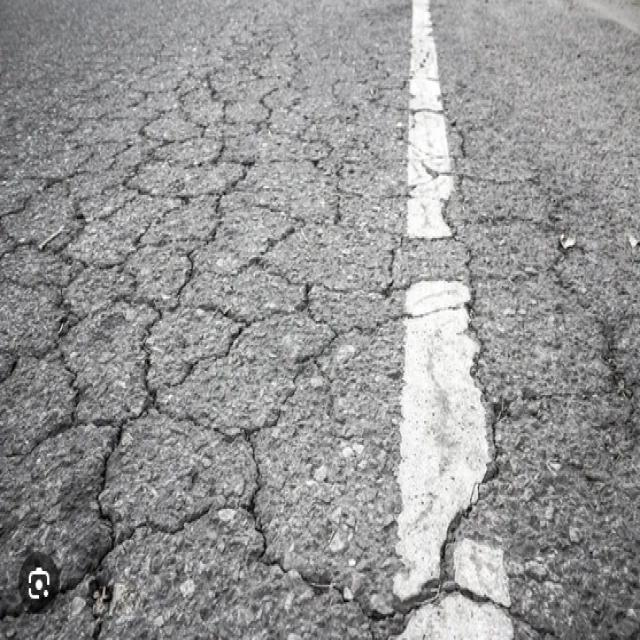Drain Hole: (52, 105, 352, 588)
